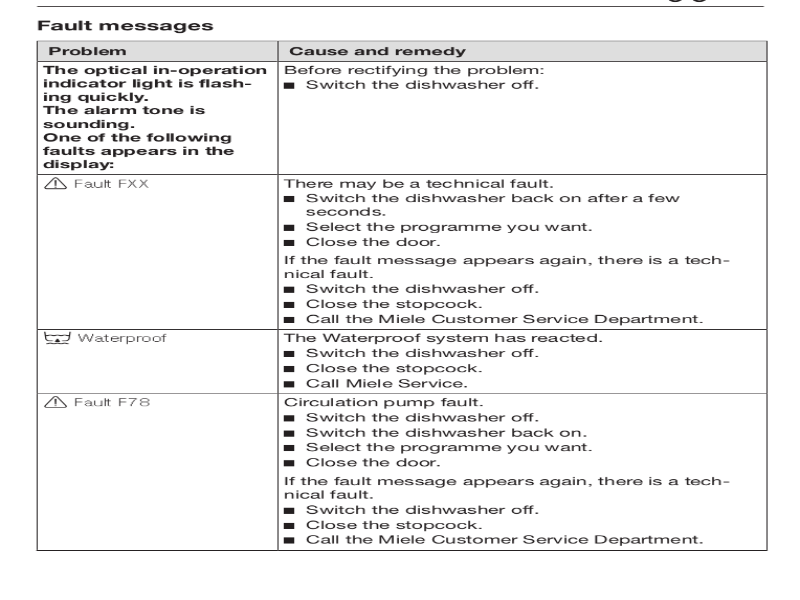border: (27, 33, 780, 561)
cell: (280, 397, 741, 547), (280, 175, 738, 325), (39, 61, 272, 170), (280, 332, 609, 389), (281, 63, 557, 98), (285, 42, 470, 58), (41, 329, 179, 349), (41, 394, 179, 414), (40, 175, 167, 196), (44, 42, 131, 58)
